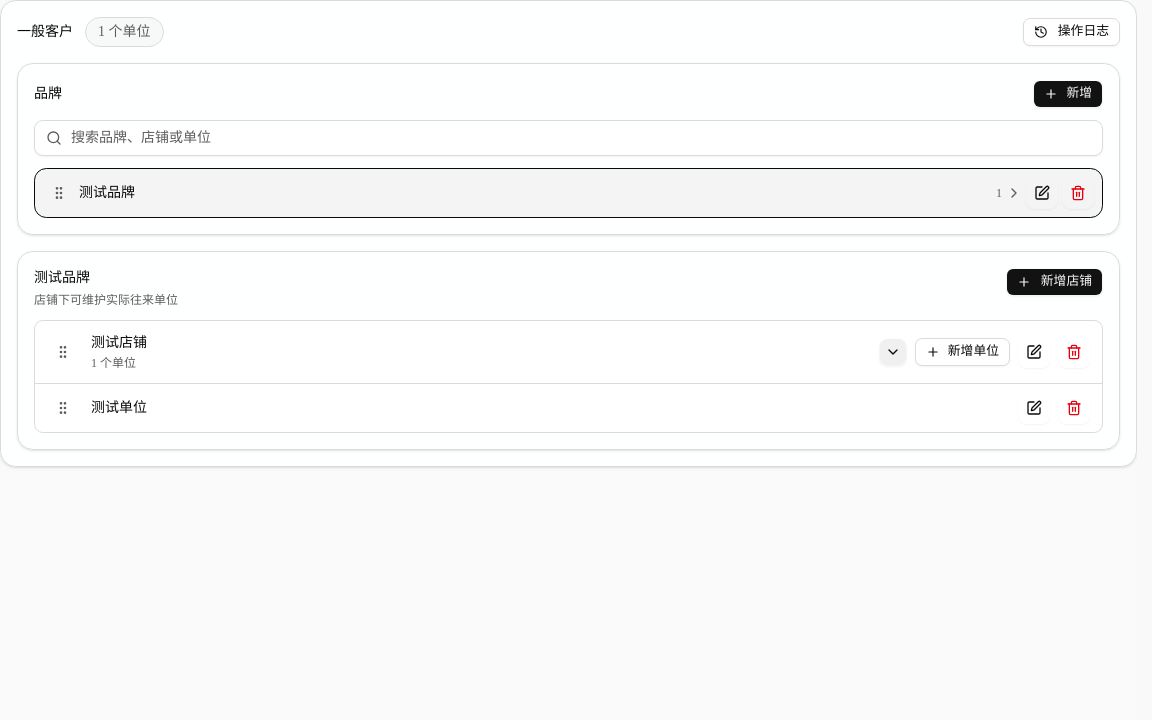
keeps deletion available only for shops without historical business
Click the button named "删除店铺 测试店铺" at (1074, 352), box 1058,336 -> 1090,368
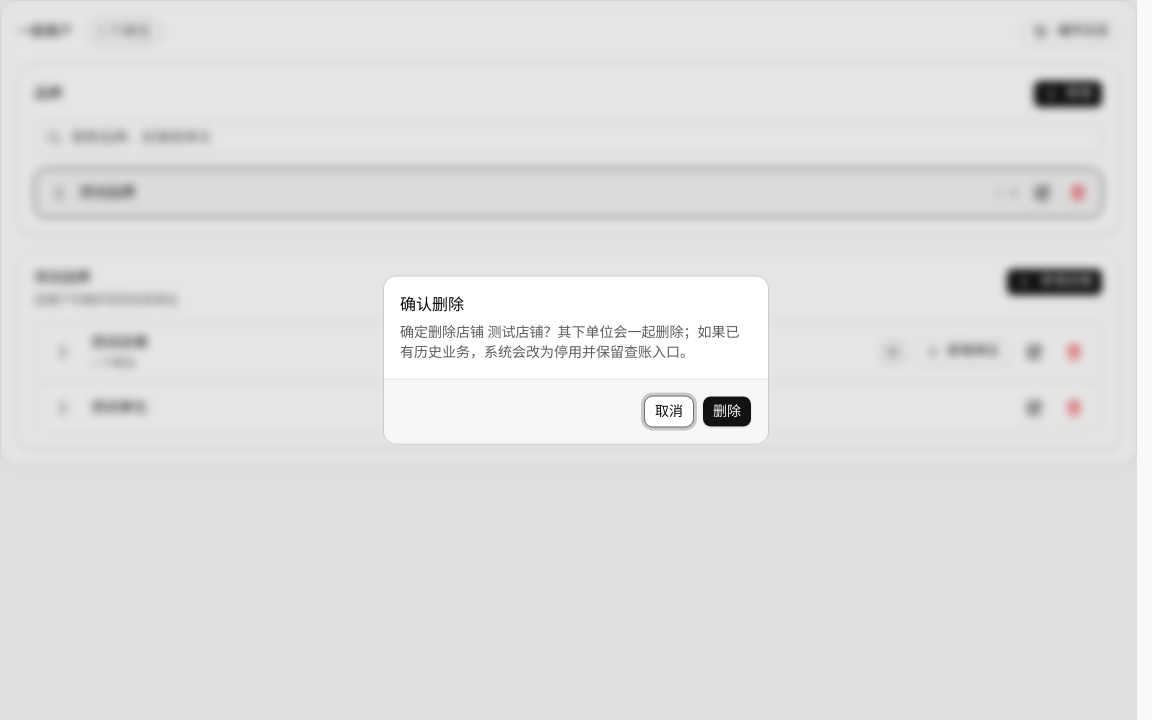
Expected: the dialog shows "如果已有历史业务，系统会改为停用", 400,324 -> 740,360
Expected: the button "删除" is shown, 702,396 -> 752,428
